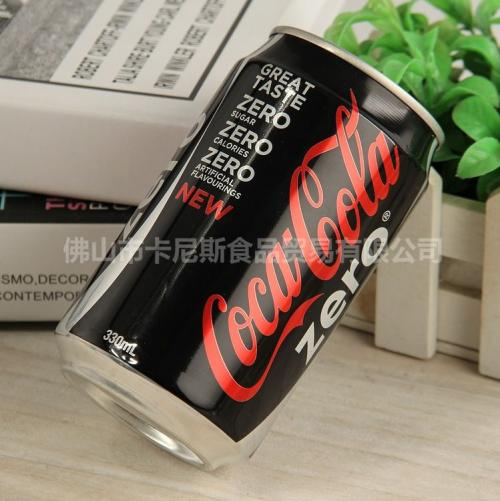coke_zero: (44, 23, 463, 487)
